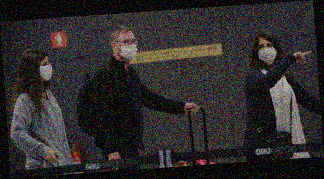with_mask: (116, 36, 141, 60), (256, 40, 278, 65), (39, 59, 54, 82)
